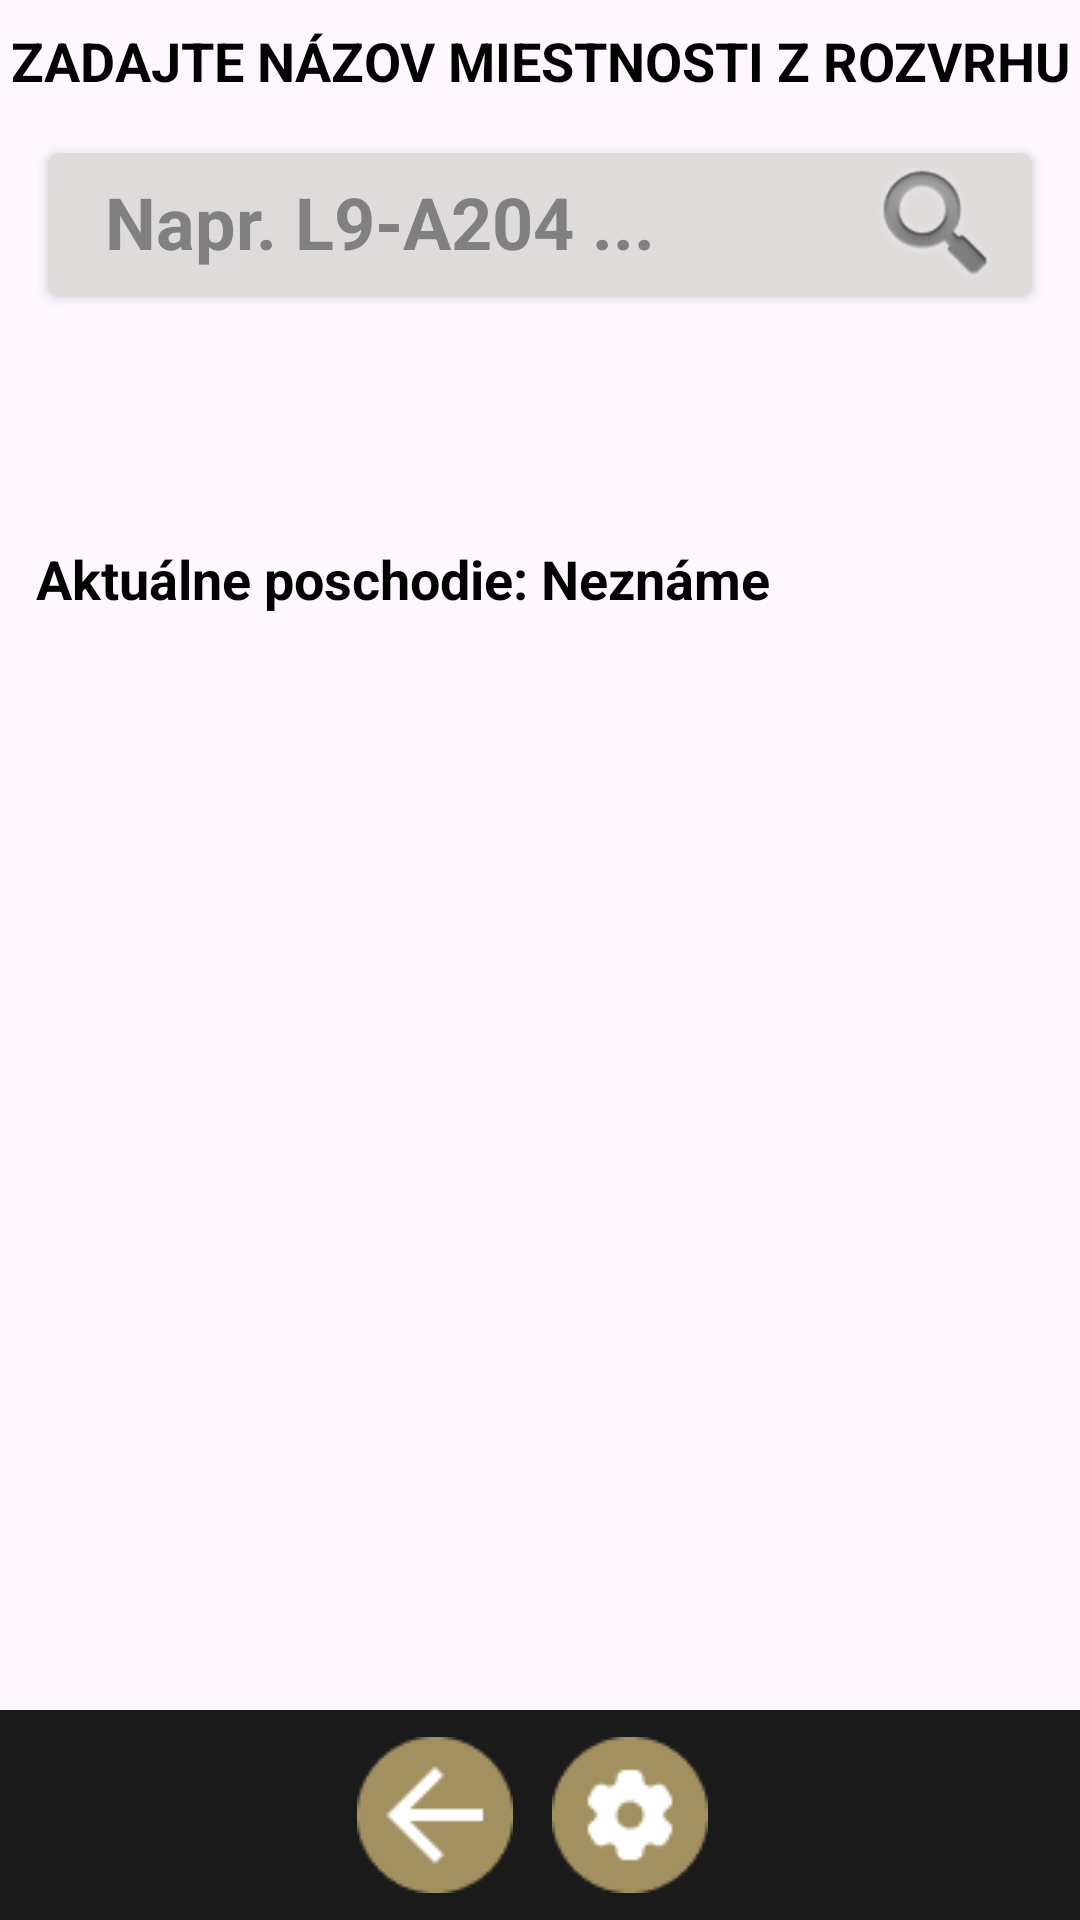

Named icons in this screenshot (1080x1920) and their centers, point (x, y):
back: point (435, 1815)
Search: point (935, 222)
settings: point (630, 1815)
